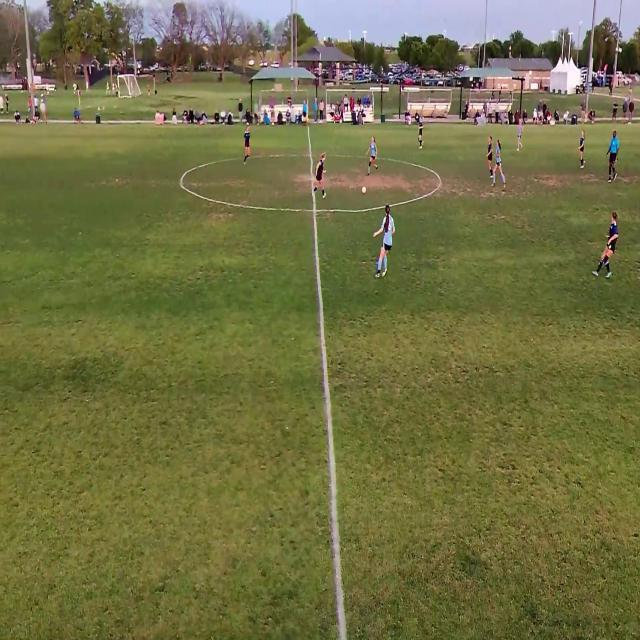ball: (361, 185, 367, 195)
team1: (592, 212, 620, 284), (314, 150, 326, 200), (486, 130, 494, 179), (579, 127, 586, 166), (244, 124, 251, 161), (417, 114, 424, 150)
team2: (376, 206, 396, 278), (495, 136, 508, 186), (368, 136, 378, 175), (516, 117, 524, 154)
